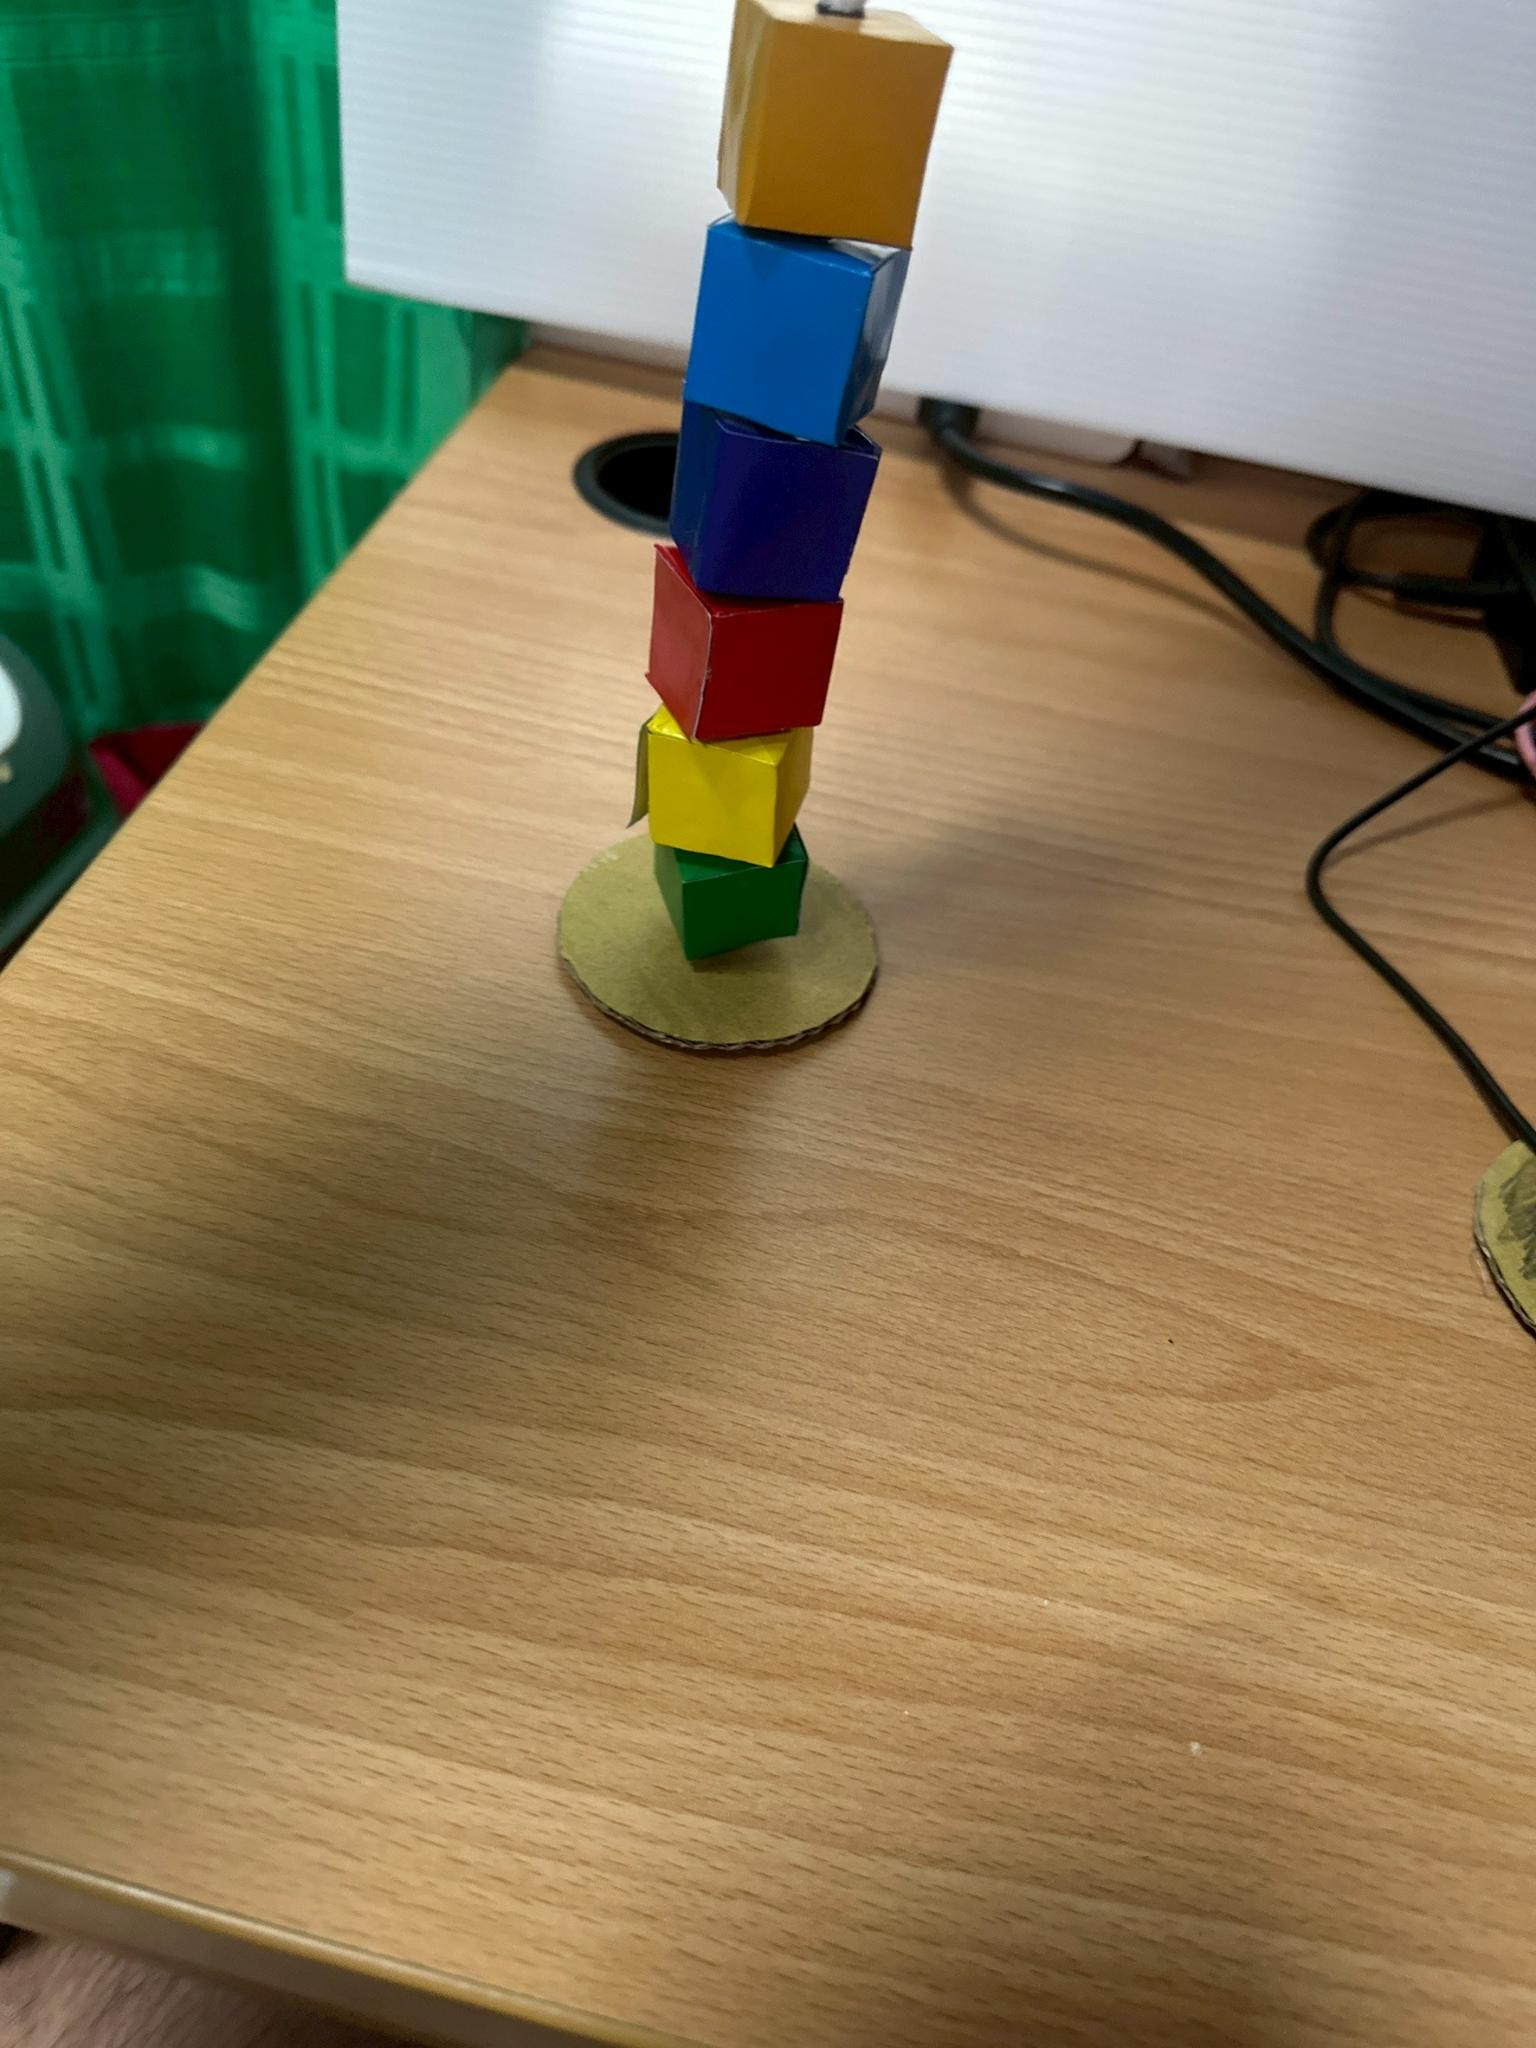base: (558, 829, 878, 1050)
